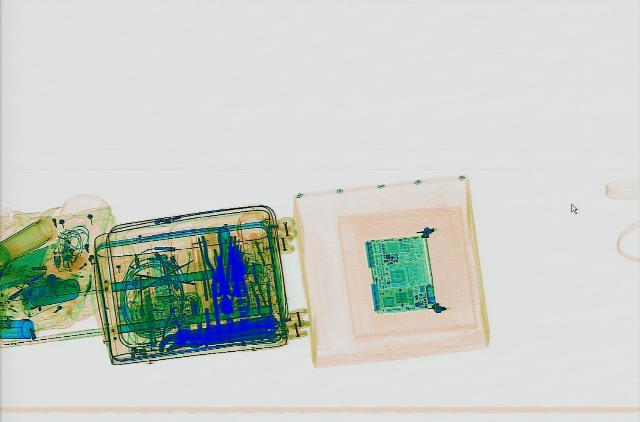Pliers: (198, 225, 228, 284), (162, 303, 180, 338)
